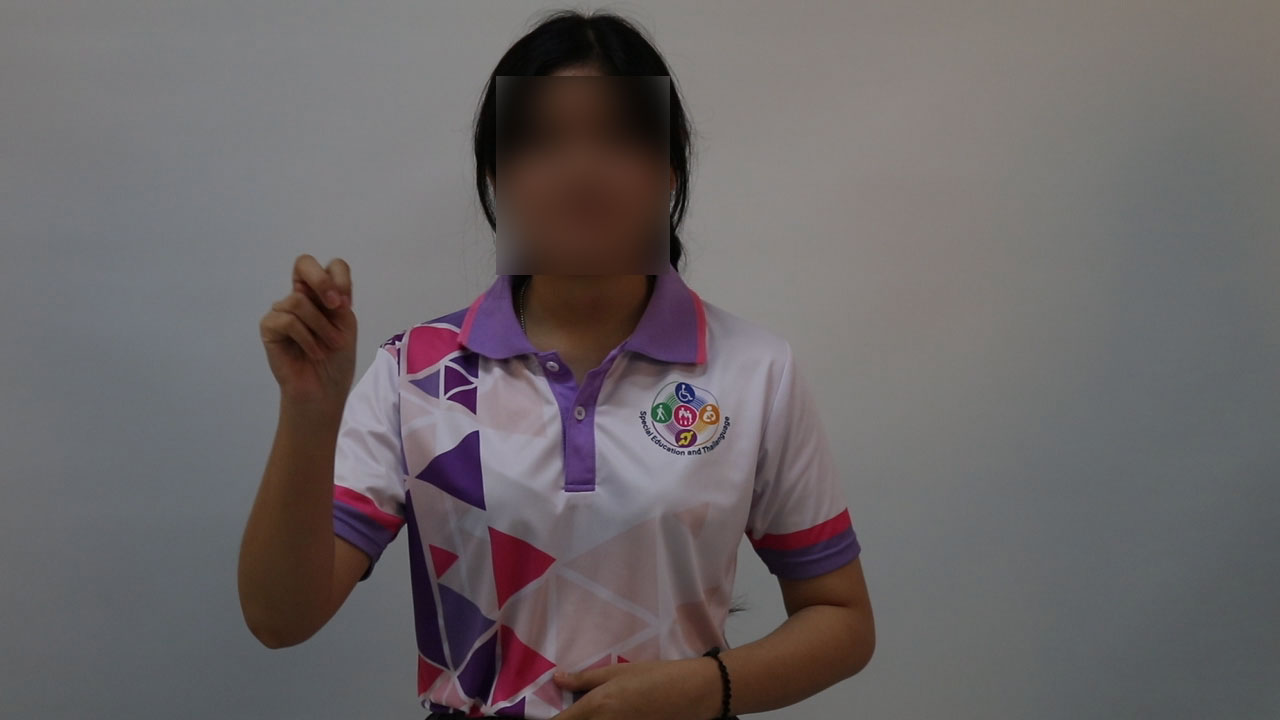nor: (250, 249, 381, 406)
